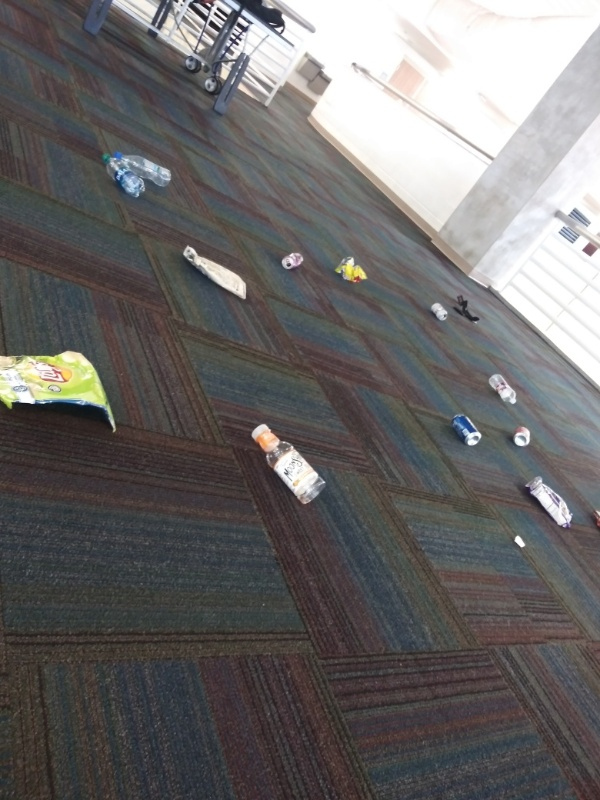bag: (1, 343, 124, 438), (175, 243, 253, 305), (517, 471, 576, 534), (330, 254, 371, 287)
bottle: (247, 419, 330, 509), (96, 149, 148, 201), (115, 149, 174, 190), (483, 370, 521, 407)
can: (442, 410, 484, 451), (276, 249, 310, 273), (505, 420, 532, 449), (424, 299, 450, 325)
